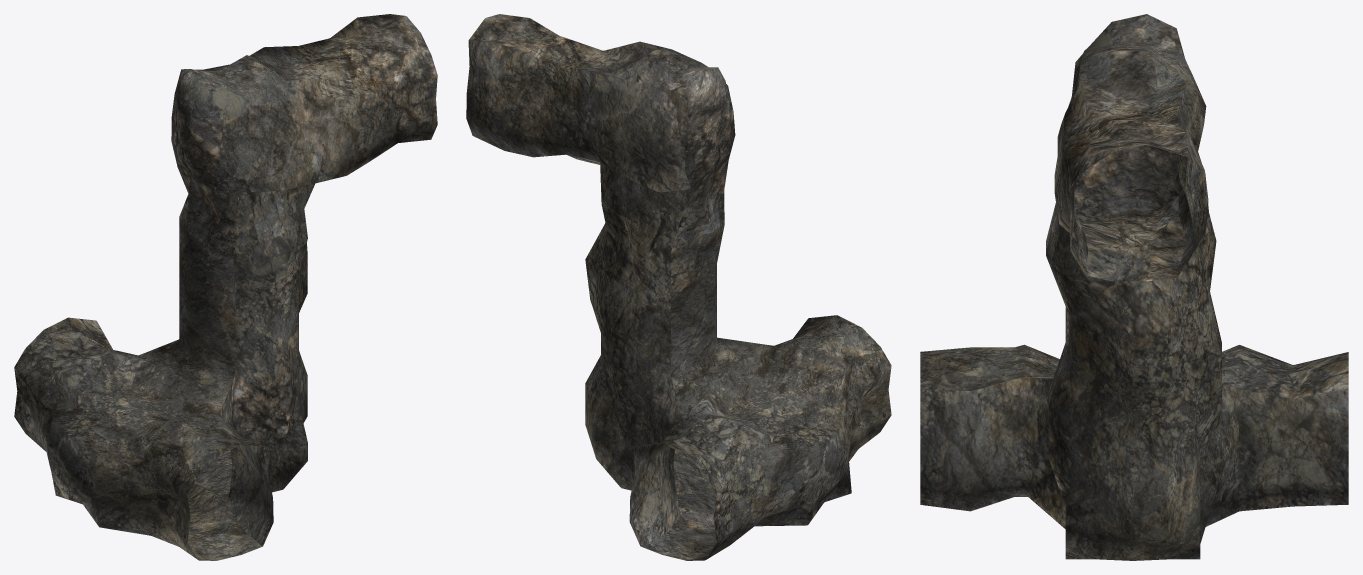
File: cave_piece_08.glb
The picture shows the model from 3 angles, left to right: view 1: azimuth 30°, elevation 25°; view 2: azimuth 150°, elevation 25°; view 3: azimuth 270°, elevation 25°; orthographic projection. The views are drawn at different scales.
Visible parts, largest first — view 1: mine_08_mine_0; view 2: mine_08_mine_0; view 3: mine_08_mine_0.
Boxes of the visible parts, x1=… form: mine_08_mine_0: x1=14, y1=14, x2=437, y2=560; mine_08_mine_0: x1=466, y1=14, x2=891, y2=560; mine_08_mine_0: x1=920, y1=14, x2=1348, y2=560.
Bounding box in the file's own units: 14.06 × 16.24 × 12.33.
Materials: 1 (1 with a texture image).
